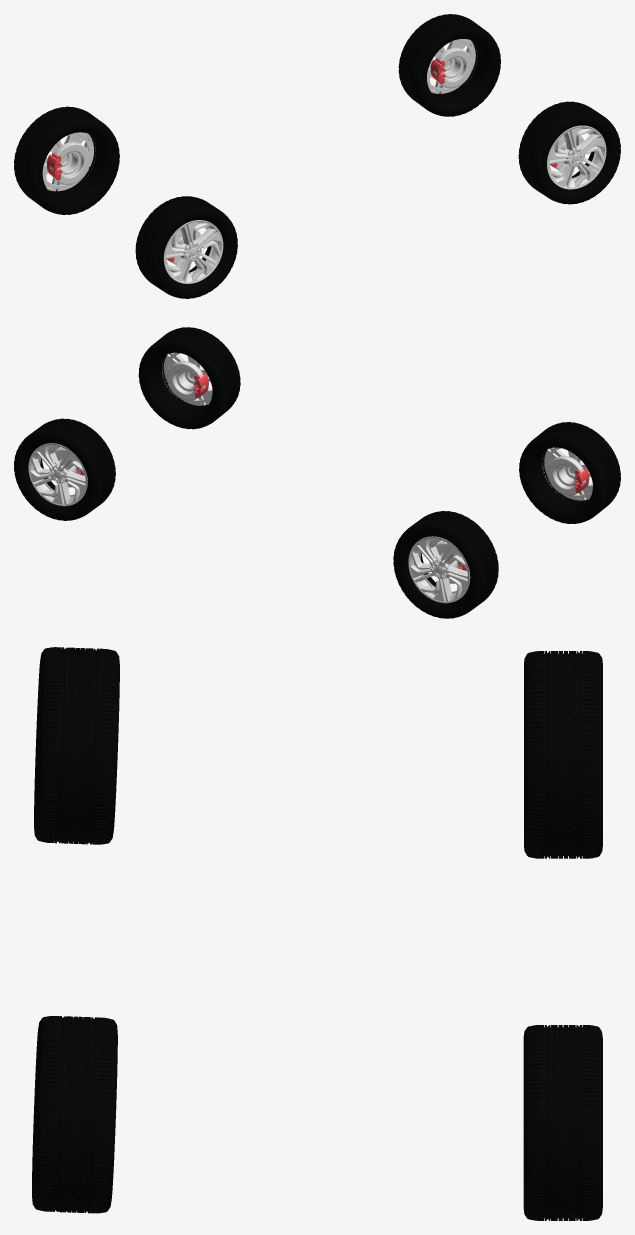
The model's file is 4rodas.glb.
3 renders of one model, top to bottom at view 1: azimuth 30°, elevation 25°; view 2: azimuth 150°, elevation 25°; view 3: azimuth 270°, elevation 25°, orthographic. The views are drawn at different scales.
Visible parts, largest first — view 1: wheel_right_front_part09_Mesh.001, wheel_right_front_part09_Mesh.003, wheel_right_front_part09_Mesh.005, wheel_right_front_part09_Mesh.002; view 2: wheel_right_front_part09_Mesh.001, wheel_right_front_part09_Mesh.002, wheel_right_front_part09_Mesh.003, wheel_right_front_part09_Mesh.005; view 3: wheel_right_front_part09_Mesh.001, wheel_right_front_part09_Mesh.003, wheel_right_front_part09_Mesh.005, wheel_right_front_part09_Mesh.002.
Boxes of the visible parts, box(x1,y1,x2,y2) form: wheel_right_front_part09_Mesh.001: box(14, 106, 119, 214); wheel_right_front_part09_Mesh.003: box(518, 101, 620, 204); wheel_right_front_part09_Mesh.005: box(135, 196, 237, 298); wheel_right_front_part09_Mesh.002: box(398, 14, 500, 116); wheel_right_front_part09_Mesh.001: box(393, 511, 498, 618); wheel_right_front_part09_Mesh.002: box(14, 418, 115, 520); wheel_right_front_part09_Mesh.003: box(138, 327, 240, 429); wheel_right_front_part09_Mesh.005: box(519, 422, 620, 523); wheel_right_front_part09_Mesh.001: box(524, 651, 602, 858); wheel_right_front_part09_Mesh.003: box(32, 1016, 117, 1213); wheel_right_front_part09_Mesh.005: box(34, 647, 119, 844); wheel_right_front_part09_Mesh.002: box(523, 1025, 602, 1220).
Size of the model in its own units: 1.43 by 0.2817 by 0.7541.
